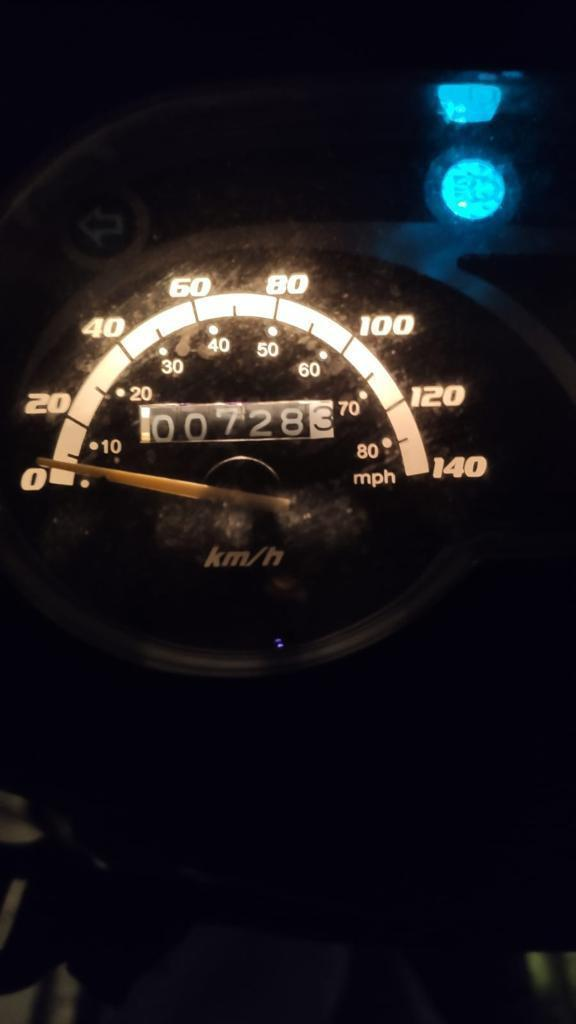0: (181, 410, 209, 444), (150, 410, 176, 443)
2: (245, 407, 274, 438)
3: (311, 404, 335, 431)
7: (214, 405, 240, 435)
8: (279, 404, 305, 436)
odometer: (136, 397, 341, 449)
